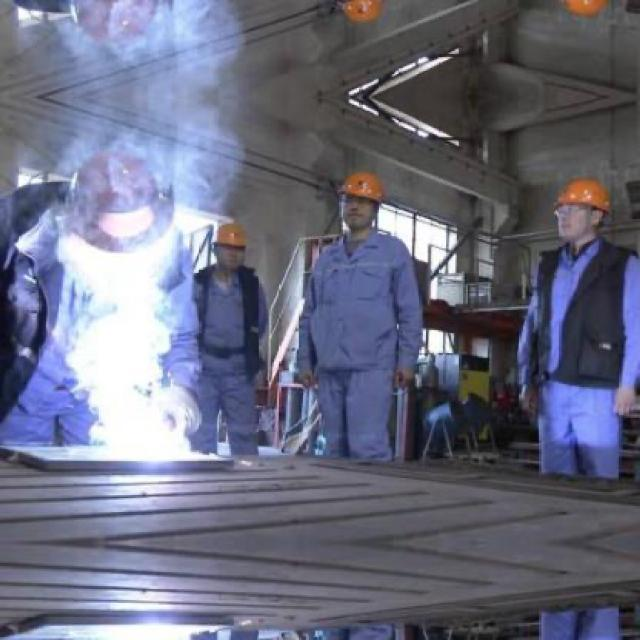helmet: (552, 173, 612, 245), (337, 165, 389, 231), (214, 216, 251, 274), (336, 0, 390, 31), (552, 0, 614, 23)
